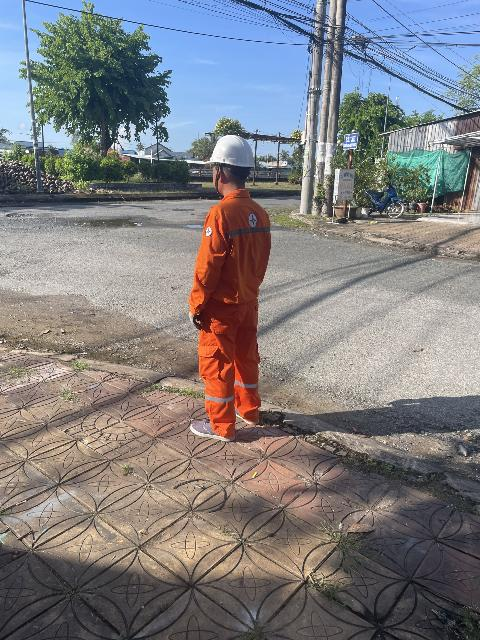gloves: (181, 305, 207, 333)
helmet: (190, 136, 268, 174)
shoes: (183, 408, 232, 450), (229, 400, 262, 433)
